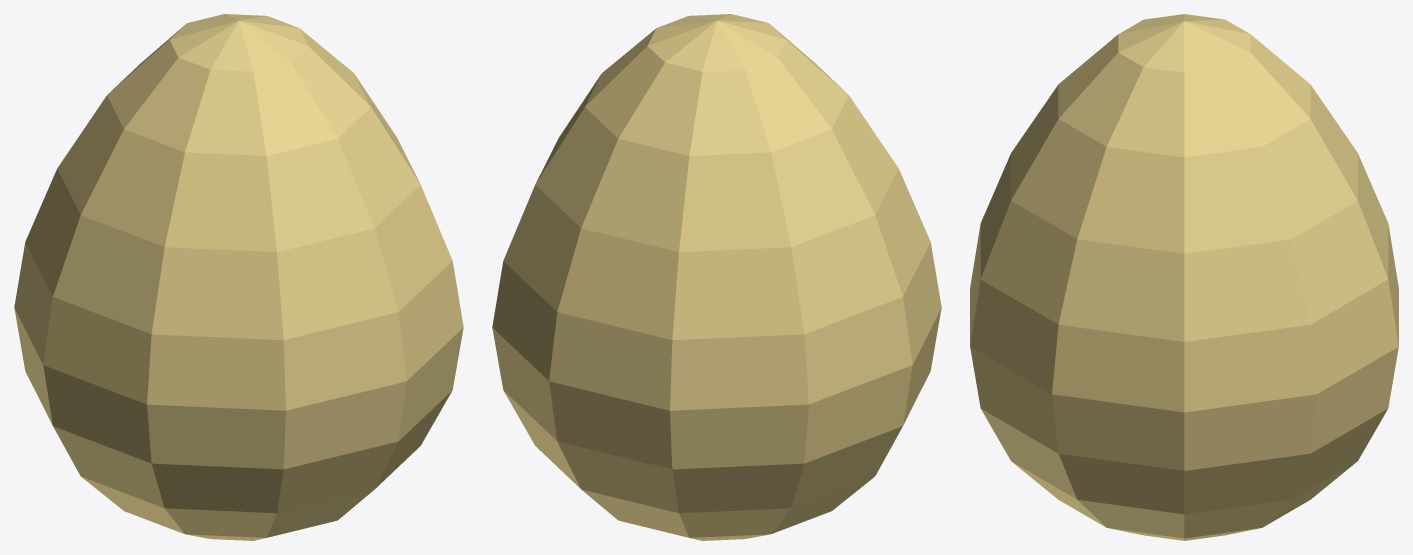
The model's file is Egg.fbx.
3 views of the same model, side by side, from view 1: azimuth 30°, elevation 25°; view 2: azimuth 150°, elevation 25°; view 3: azimuth 270°, elevation 25° (orthographic).
Parts seen in each view (by area): view 1: Egg; view 2: Egg; view 3: Egg.
Boxes of the visible parts, x1,y1,x2,y2 form: Egg: [14, 14, 463, 540]; Egg: [492, 14, 941, 540]; Egg: [970, 14, 1398, 540].
Bounding box in the file's own units: 2 × 2.45 × 1.9.
